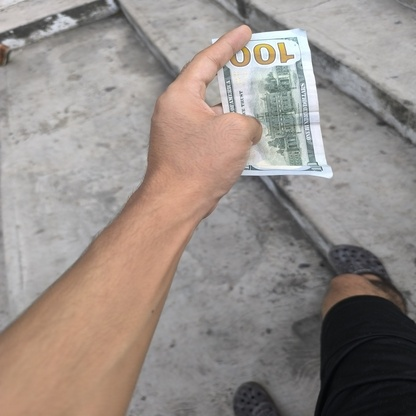one_hundred-back: (208, 27, 339, 183)
